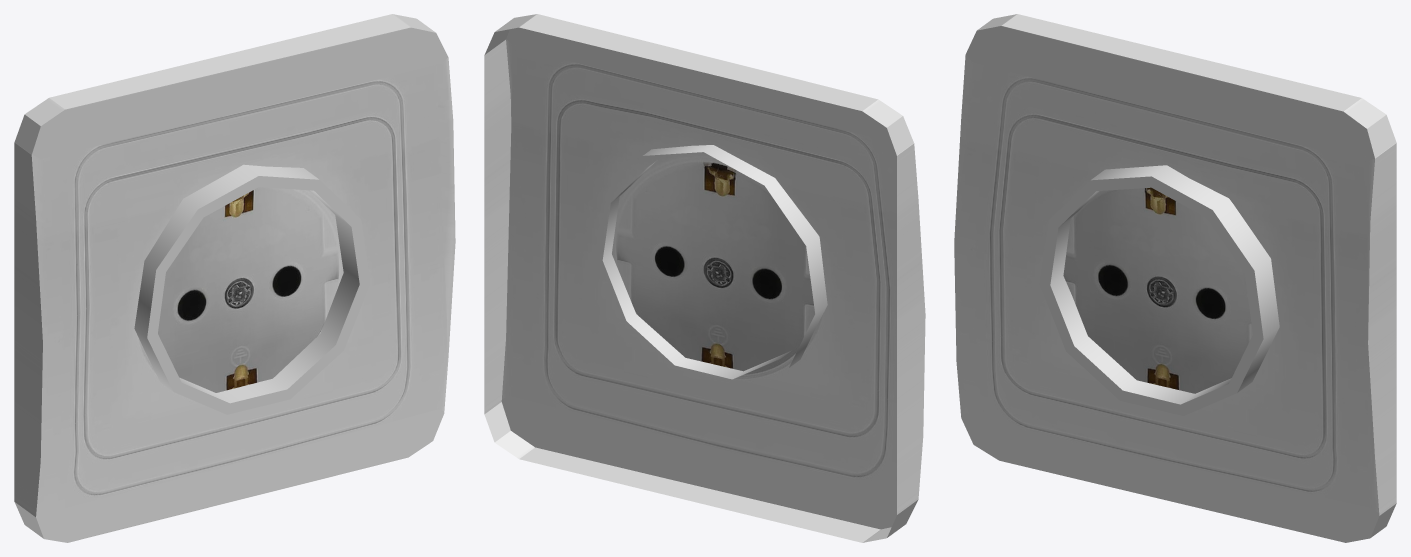
The model's file is rozetka.glb.
3 views of the same model, side by side, from view 1: azimuth 30°, elevation 25°; view 2: azimuth 150°, elevation 25°; view 3: azimuth 330°, elevation 25° (orthographic).
Parts seen in each view (by area): view 1: rozetka; view 2: rozetka; view 3: rozetka.
Boxes of the visible parts, x1,y1,x2,y2 form: rozetka: [14, 14, 455, 542]; rozetka: [484, 14, 925, 542]; rozetka: [954, 14, 1396, 542].
Bounding box in the file's own units: 0.08 × 0.08 × 0.0128.
1 material, 1 textured.
